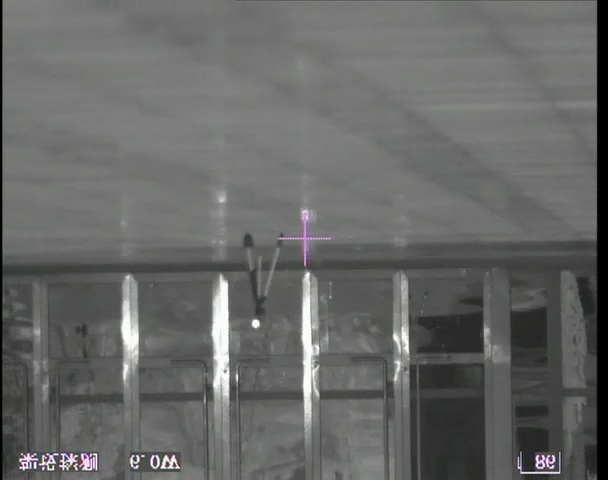my: (250, 318, 260, 330)
